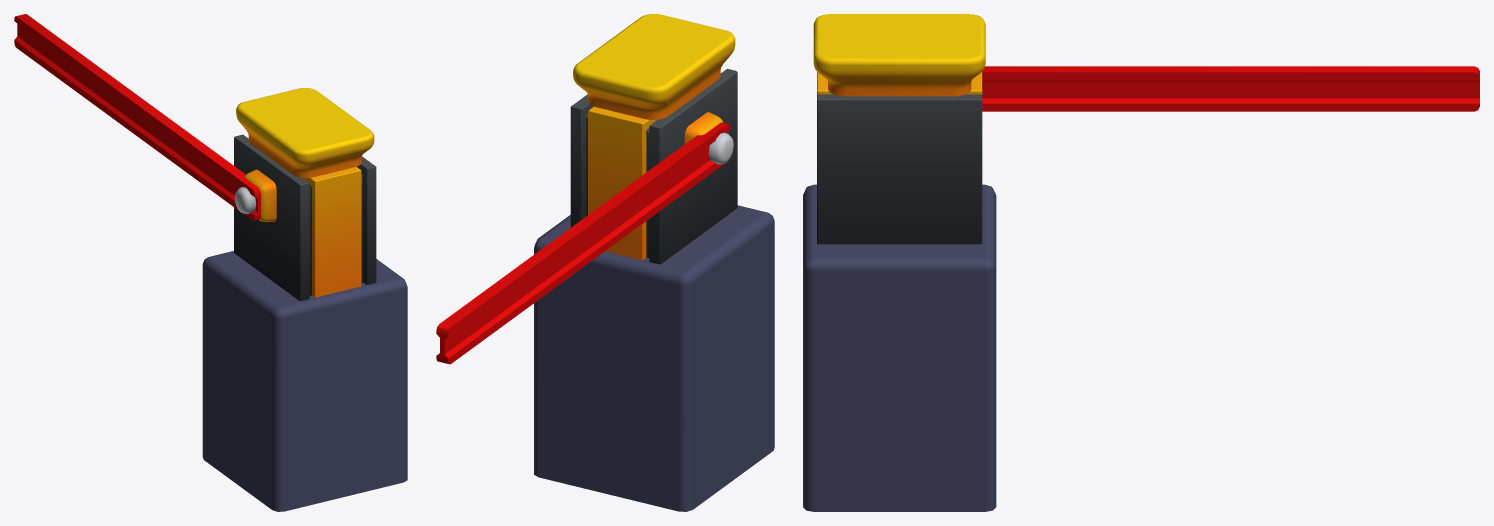
File: Parking_Block.fbx
3 views of the same model, side by side, from view 1: azimuth 30°, elevation 25°; view 2: azimuth 150°, elevation 25°; view 3: azimuth 270°, elevation 25° (orthographic). The views are drawn at different scales.
Parts seen in each view (by area): view 1: ParkingWall_Area_GEO, PDoor_Body_GEO, DoorPlate, Lights_GEO; view 2: ParkingWall_Area_GEO, PDoor_Body_GEO, DoorPlate, Lights_GEO; view 3: ParkingWall_Area_GEO, PDoor_Body_GEO, DoorPlate, Lights_GEO.
Boxes of the visible parts, <box> form: ParkingWall_Area_GEO: <box>202,251,407,511</box>; PDoor_Body_GEO: <box>234,134,376,300</box>; DoorPlate: <box>14,14,260,220</box>; Lights_GEO: <box>236,88,374,178</box>; ParkingWall_Area_GEO: <box>534,205,774,511</box>; PDoor_Body_GEO: <box>570,68,737,264</box>; DoorPlate: <box>436,122,730,364</box>; Lights_GEO: <box>573,14,735,119</box>; ParkingWall_Area_GEO: <box>803,184,996,511</box>; PDoor_Body_GEO: <box>817,72,982,244</box>; DoorPlate: <box>982,66,1479,111</box>; Lights_GEO: <box>813,14,985,96</box>.
Bounding box in the file's own units: 35 × 87.01 × 123.
